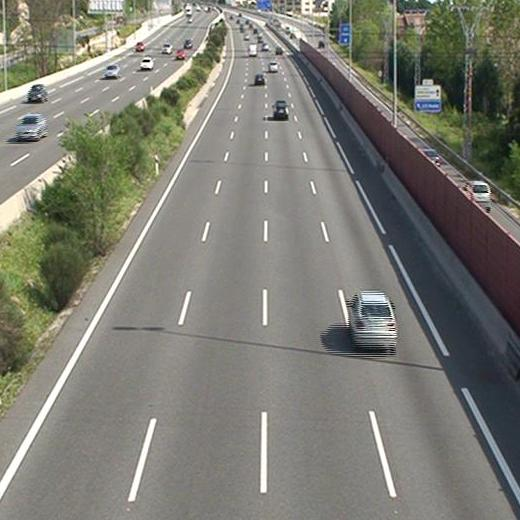car: (348, 291, 400, 347), (271, 98, 289, 118), (253, 72, 264, 84), (269, 61, 279, 73)
van: (247, 42, 258, 57)
